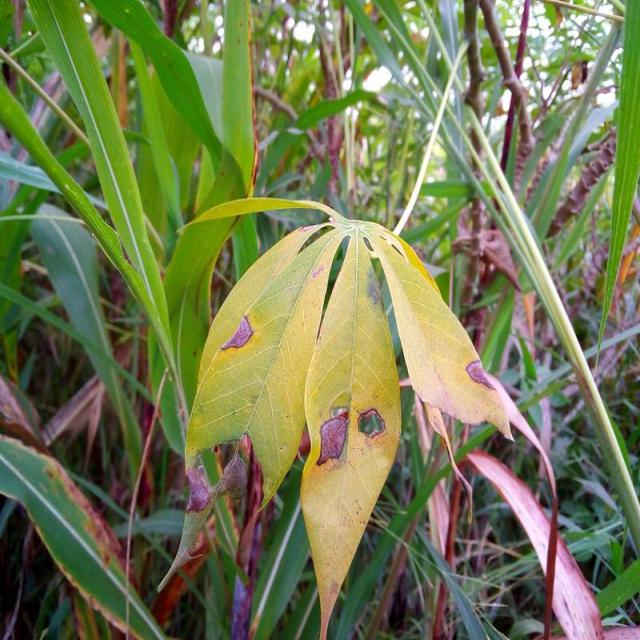cassava leaf: (178, 198, 513, 637)
